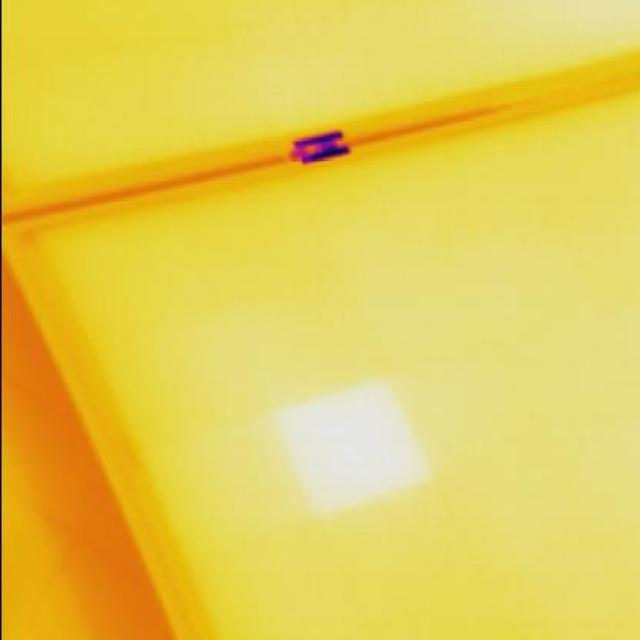hotspot: (274, 377, 437, 523)
